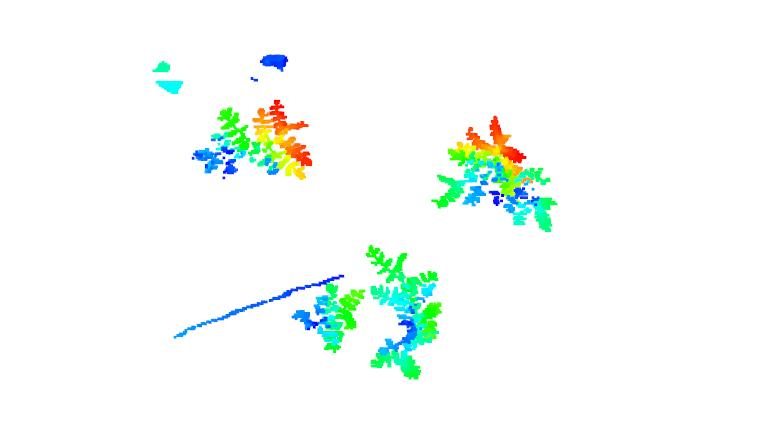chickpea: (433, 117, 557, 234), (359, 238, 446, 380), (191, 98, 311, 185), (292, 279, 366, 353)
